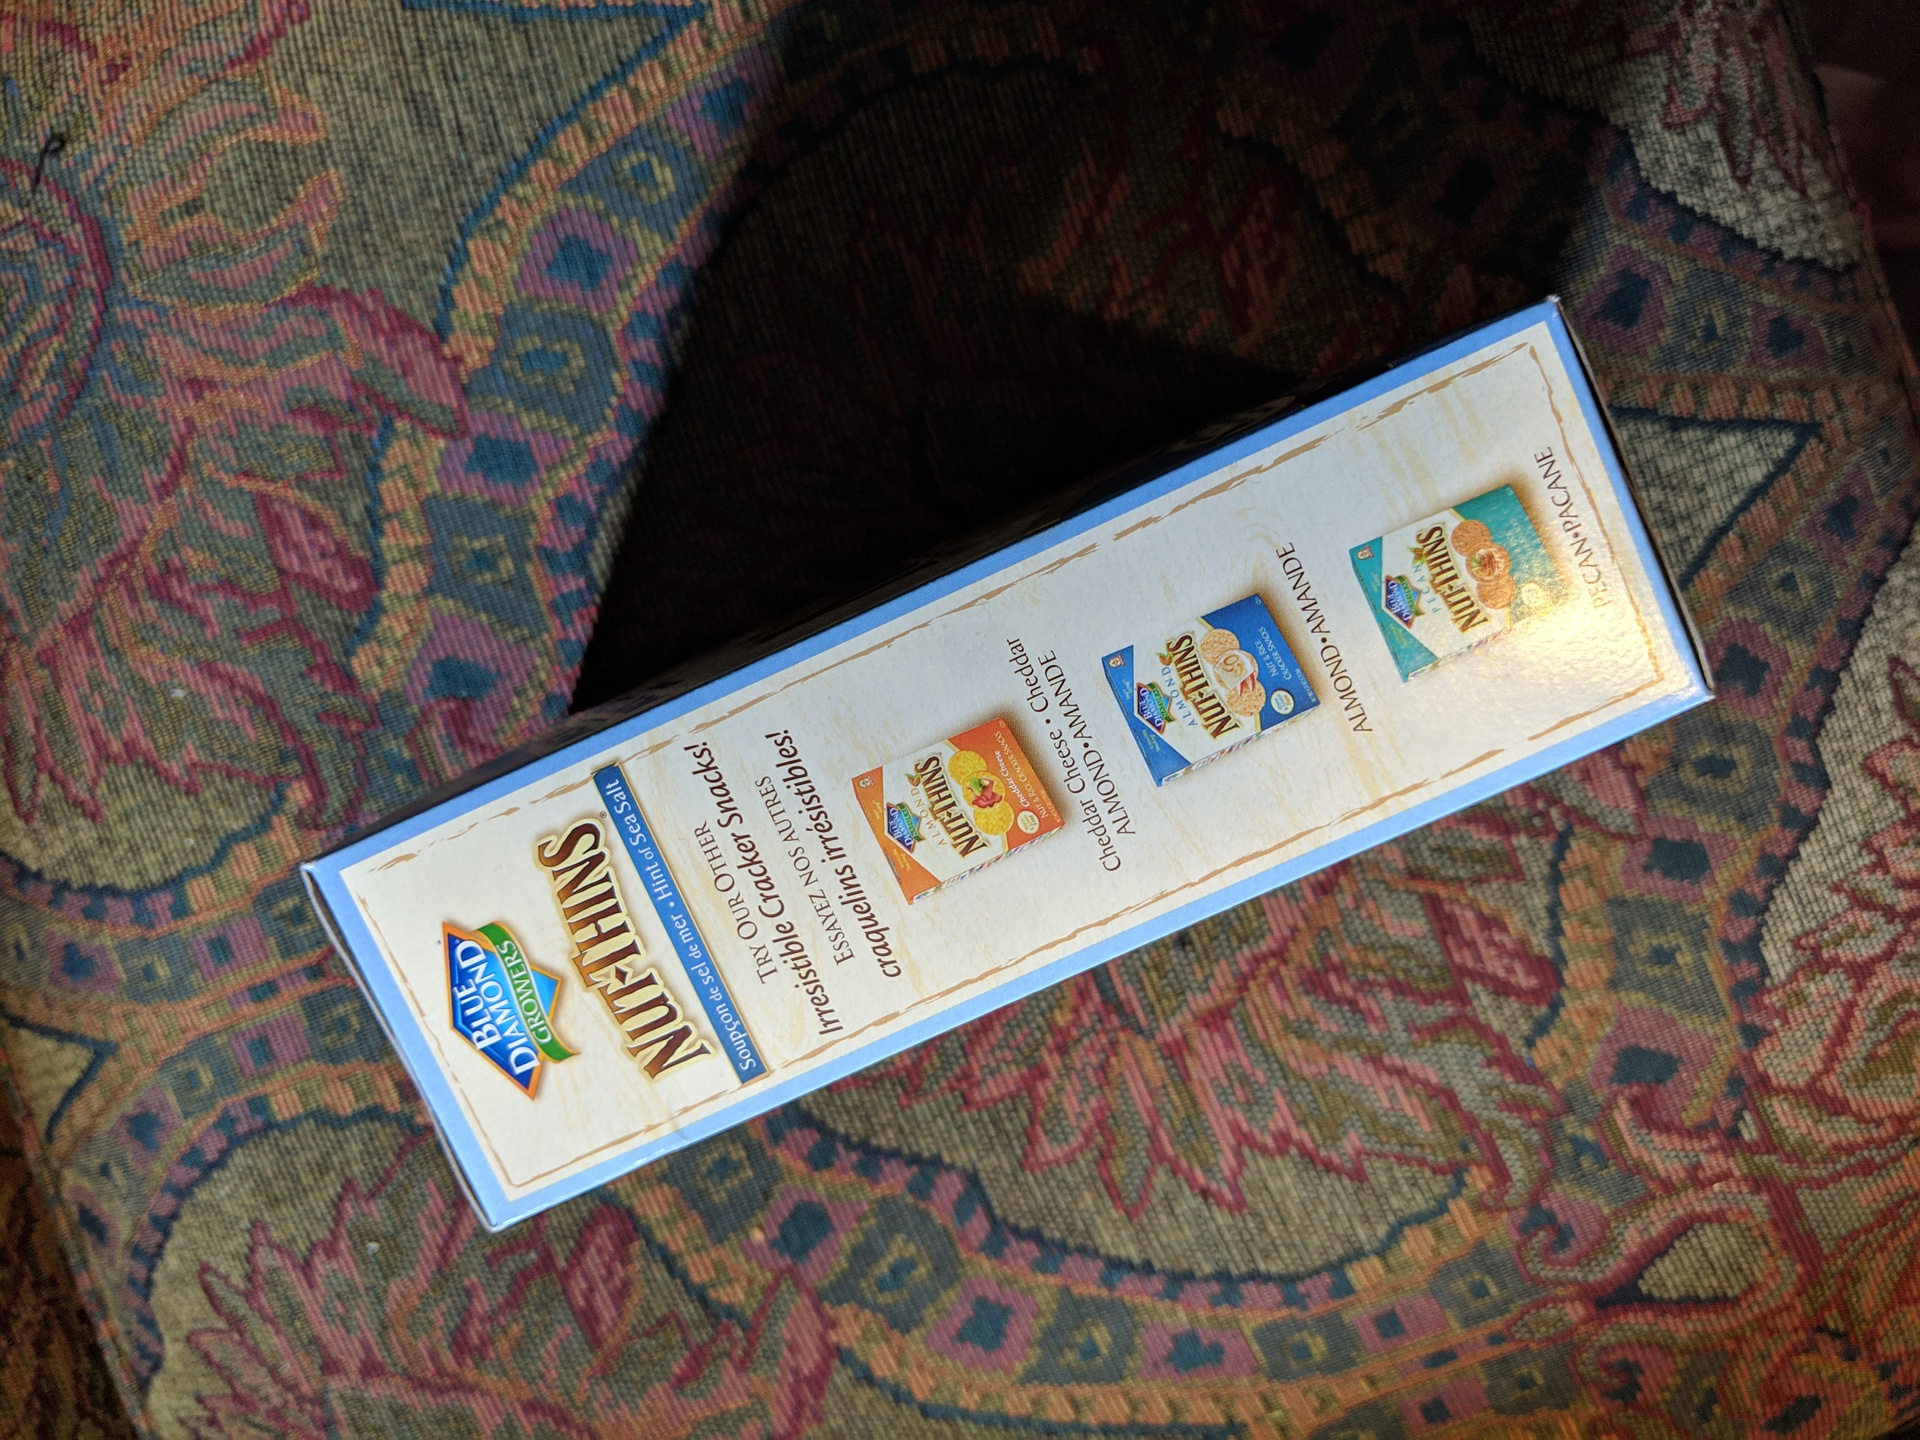blue_diamond_nut_thins_almond_seasalt: (419, 402, 1646, 1168)
